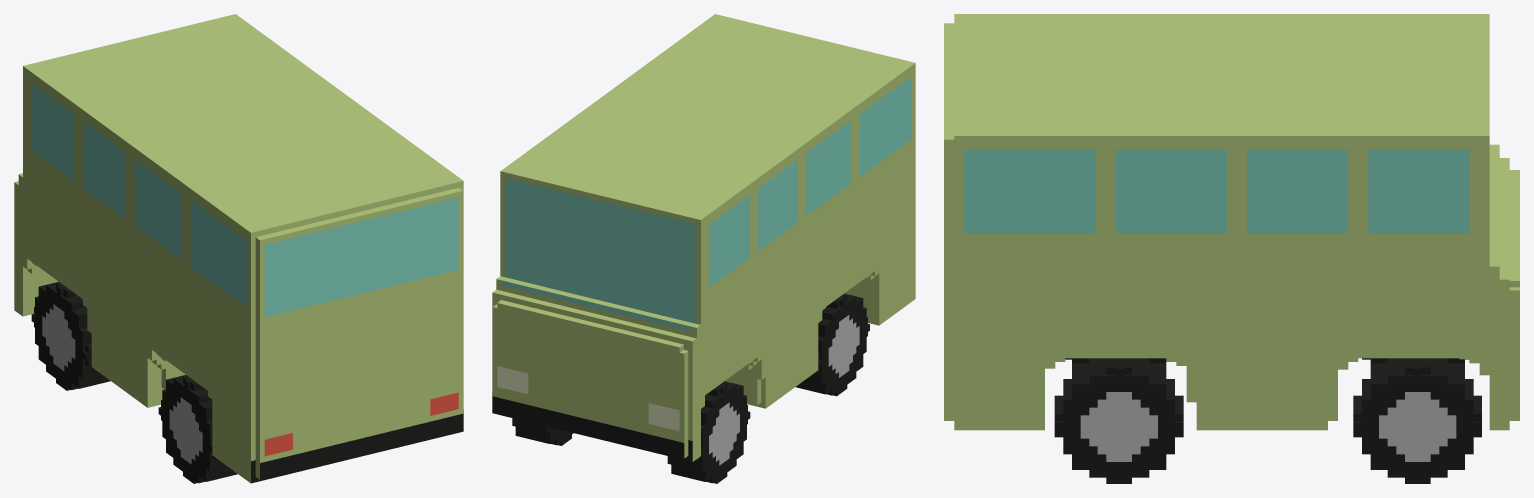
The model's file is vehicle a.fbx.
The picture shows the model from 3 angles, left to right: view 1: azimuth 30°, elevation 25°; view 2: azimuth 150°, elevation 25°; view 3: azimuth 270°, elevation 25°; orthographic projection. The views are drawn at different scales.
Visible parts, largest first — view 1: vehicle A; view 2: vehicle A; view 3: vehicle A.
Boxes of the visible parts, x1,y1,x2,y2 form: vehicle A: [14, 14, 463, 483]; vehicle A: [492, 14, 915, 483]; vehicle A: [944, 14, 1519, 483].
Bounding box in the file's own units: 86.71 × 117 × 173.
